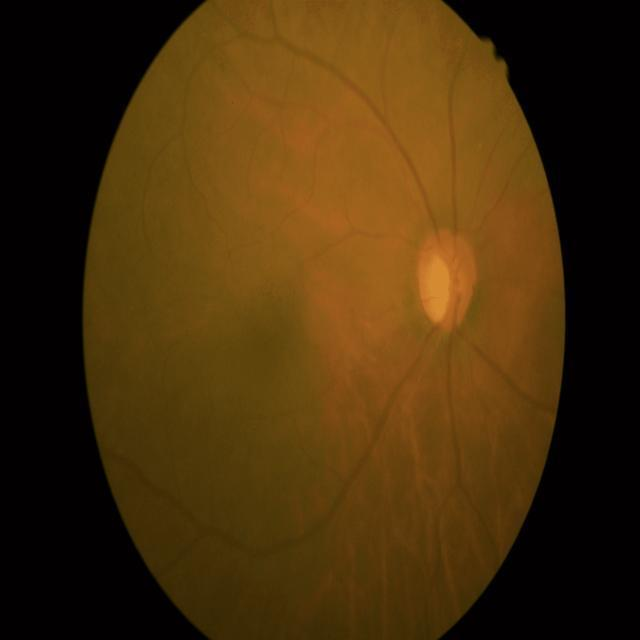cup: (424, 244, 464, 324)
disk: (419, 230, 477, 331)
